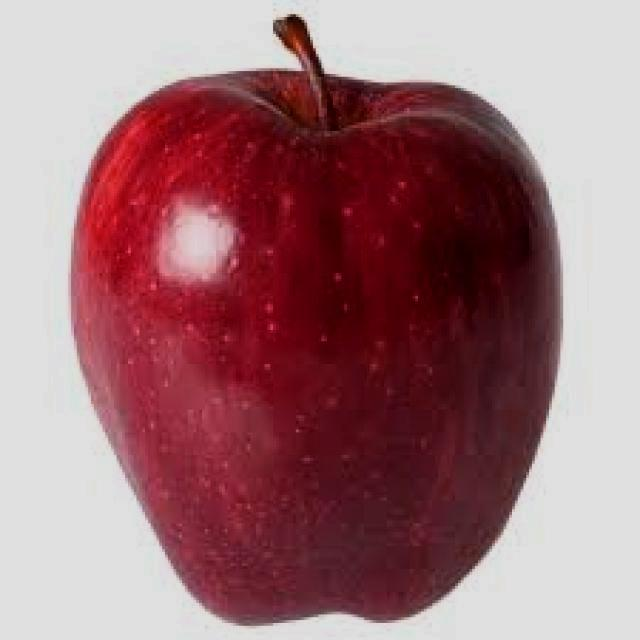Apple: (43, 3, 569, 640)
